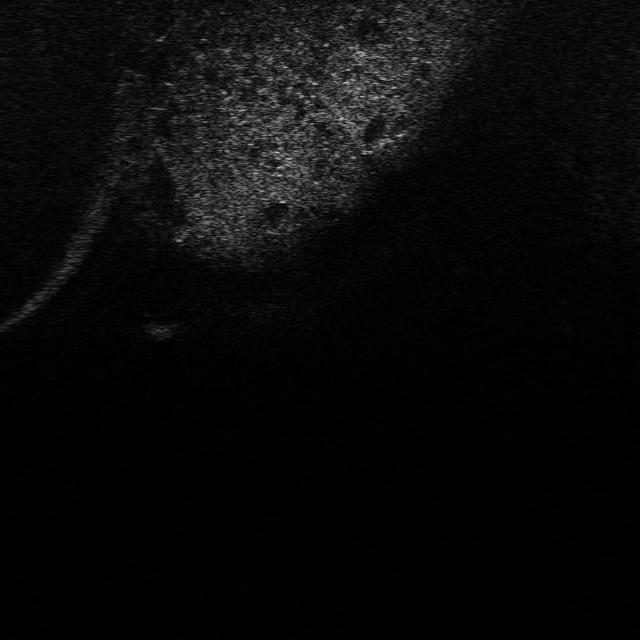cube: (134, 315, 188, 341)
